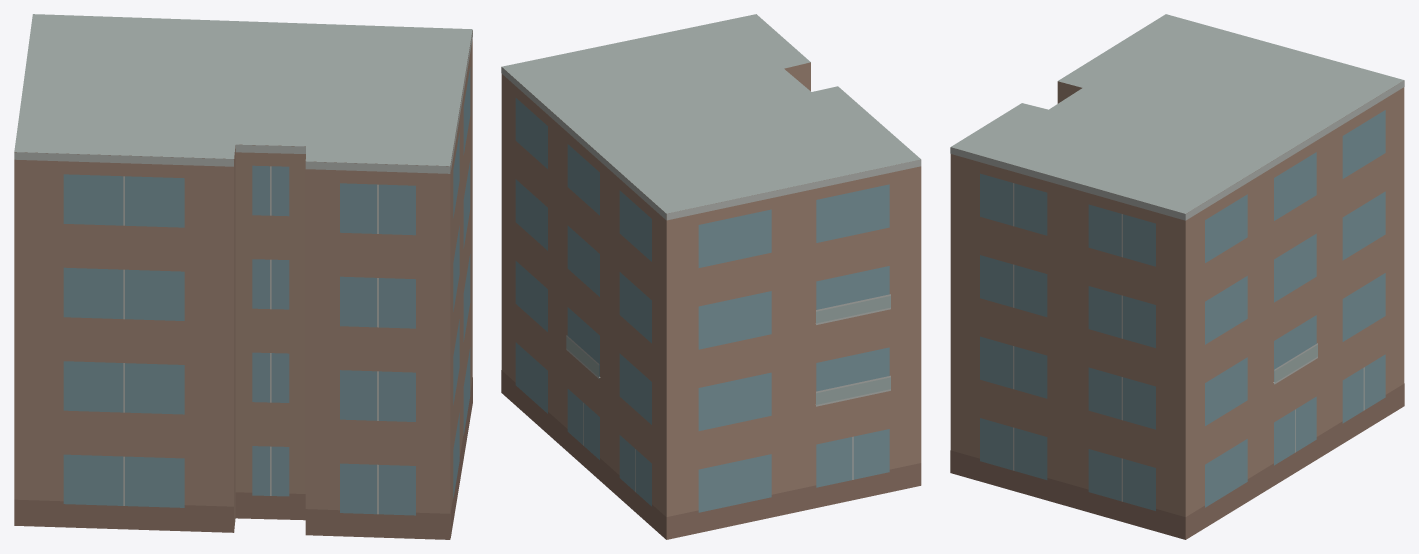
Rendered from survey-upis-32945552.glb.
3 renders of one model, left to right at view 1: azimuth 30°, elevation 25°; view 2: azimuth 150°, elevation 25°; view 3: azimuth 270°, elevation 25°, orthographic. The views are drawn at different scales.
Visible parts, largest first — view 1: survey-upis-32945552.tmp; view 2: survey-upis-32945552.tmp; view 3: survey-upis-32945552.tmp.
Boxes of the visible parts, x1,y1,x2,y2 form: survey-upis-32945552.tmp: (14, 14, 472, 539); survey-upis-32945552.tmp: (501, 14, 921, 539); survey-upis-32945552.tmp: (950, 14, 1404, 539).
Size of the model in its own units: 15.53 by 11.8 by 14.9.
